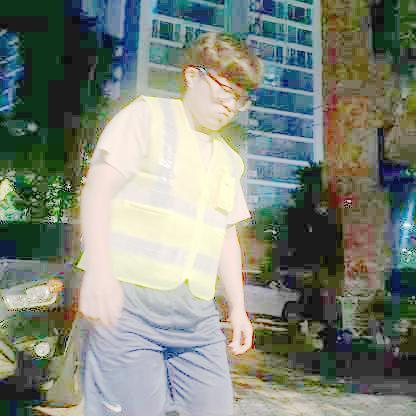no-helmet: (179, 25, 270, 113)
vest: (77, 93, 245, 304)
